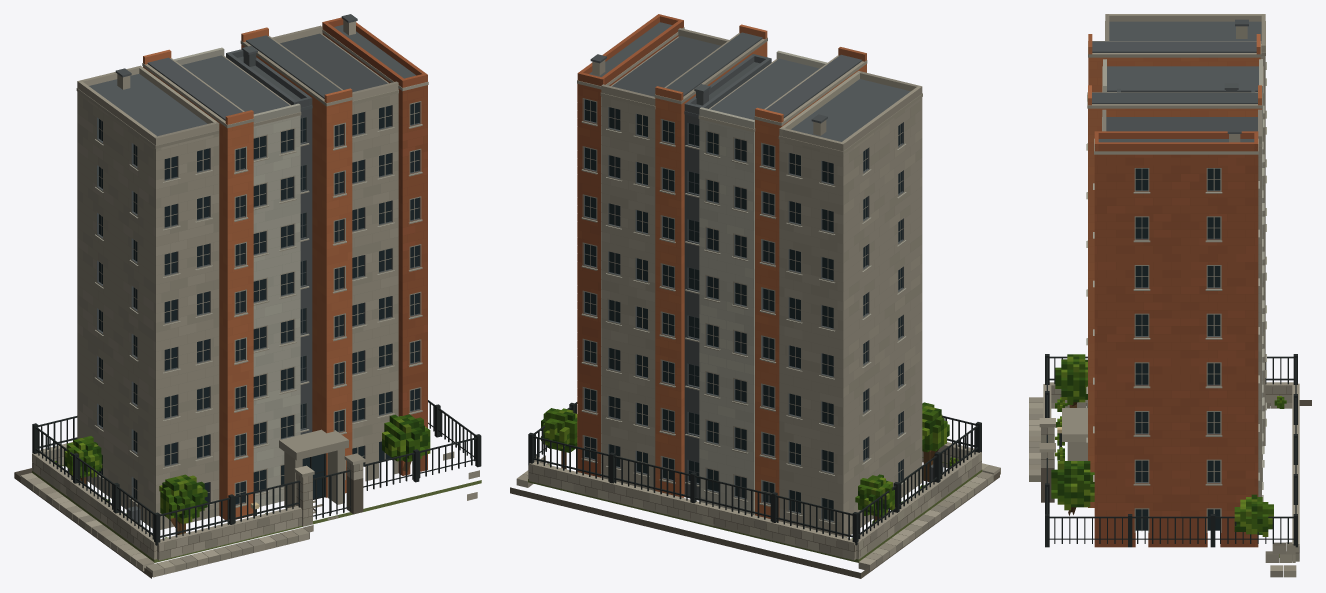
Rendered from SM_StreetFrontage_126.fbx.
The picture shows the model from 3 angles, left to right: view 1: azimuth 30°, elevation 25°; view 2: azimuth 150°, elevation 25°; view 3: azimuth 270°, elevation 25°; orthographic projection. The views are drawn at different scales.
Parts seen in each view (by area): view 1: SM_StreetFrontage_126; view 2: SM_StreetFrontage_126; view 3: SM_StreetFrontage_126.
Boxes of the visible parts, <box> form: SM_StreetFrontage_126: <box>14,14,481,578</box>; SM_StreetFrontage_126: <box>510,14,1000,578</box>; SM_StreetFrontage_126: <box>1029,14,1311,577</box>.
Size of the model in its own units: 32 by 21.95 by 36.32.
